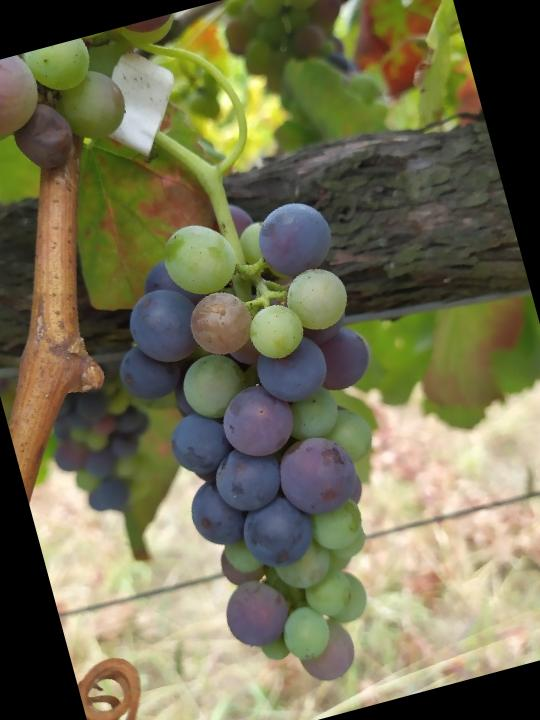grape: (83, 189, 452, 718)
